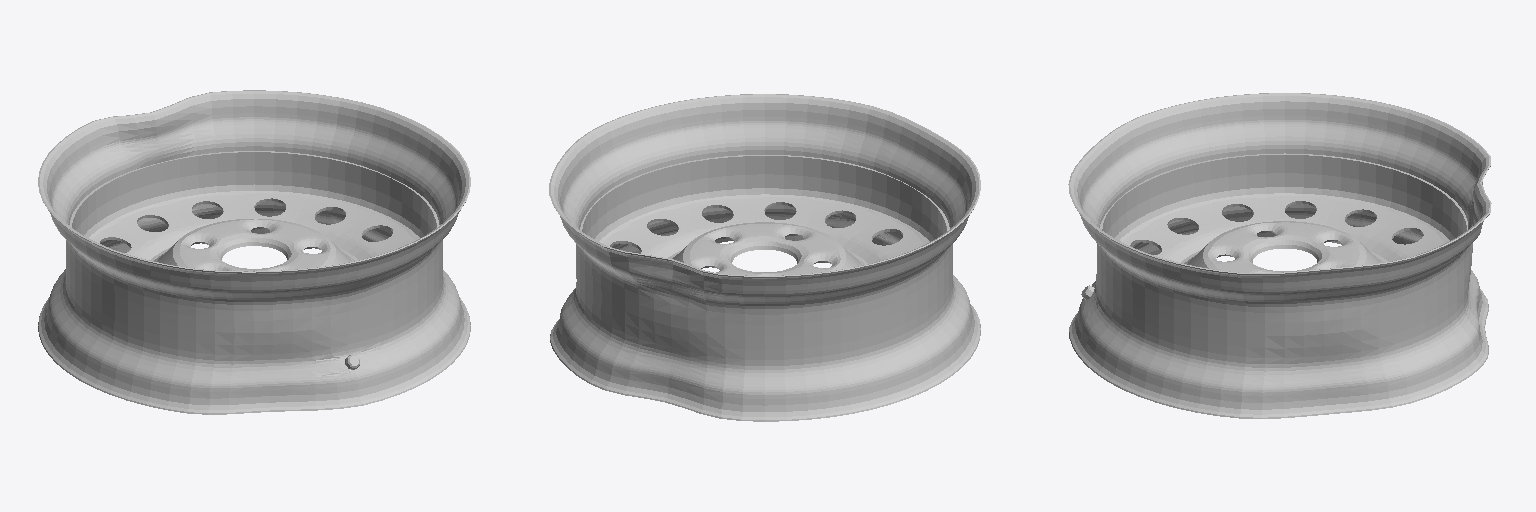
Rendered from Rust_Wheel.obj.
3 views of the same model, side by side, from view 1: azimuth 30°, elevation 25°; view 2: azimuth 150°, elevation 25°; view 3: azimuth 270°, elevation 25° (orthographic).
Visible parts, largest first — view 1: rusted_wheel_rim_01; view 2: rusted_wheel_rim_01; view 3: rusted_wheel_rim_01.
Part boxes in pixels (x1,y1,x2,y2): rusted_wheel_rim_01: (38,90,470,414); rusted_wheel_rim_01: (549,94,980,421); rusted_wheel_rim_01: (1068,93,1491,418).
Size of the model in its own units: 0.4029 by 0.1541 by 0.3955.